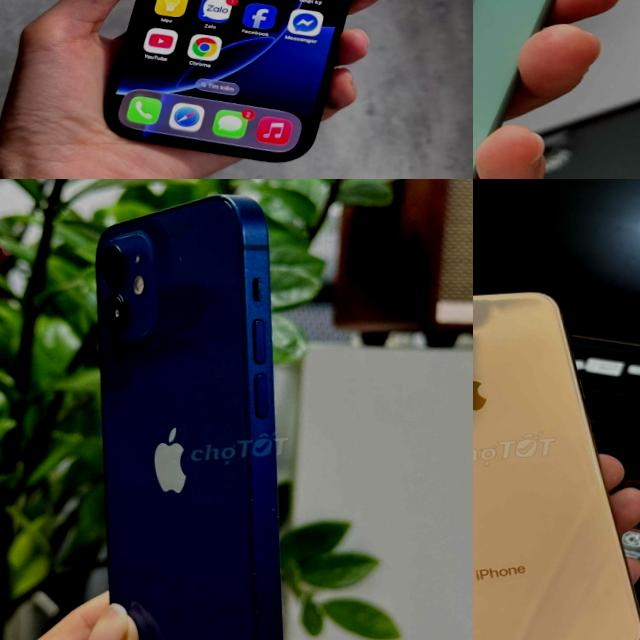gen_11: (473, 0, 640, 179)
gen_12_13: (82, 192, 300, 640)
gen_16: (74, 0, 415, 179)
gen_x_xs: (473, 256, 640, 640)
